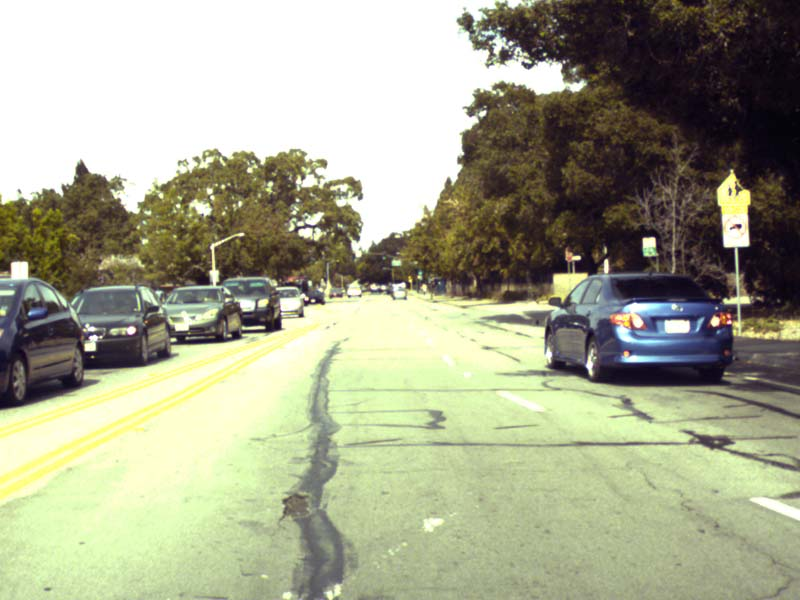Green: (381, 251, 385, 260), (417, 270, 423, 274)
